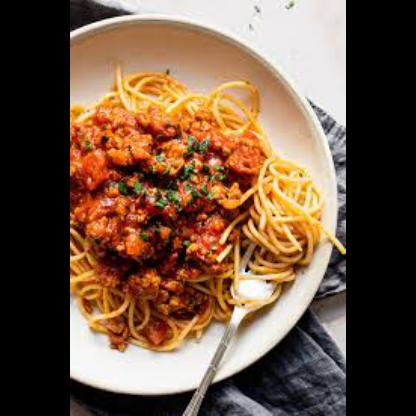spaghetti: (69, 60, 344, 354)
